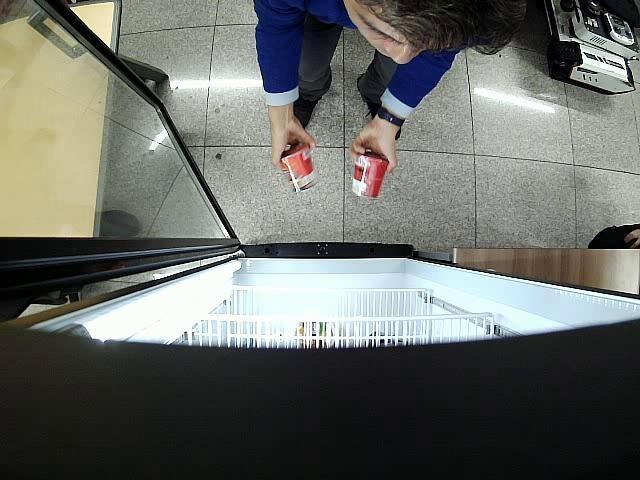02_shinRamen_S: (281, 142, 320, 194), (352, 152, 386, 200)
